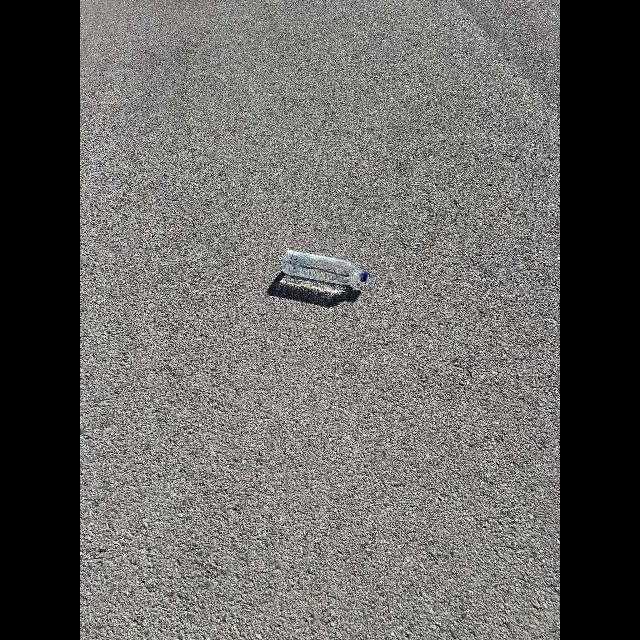trash: (274, 235, 376, 299)
